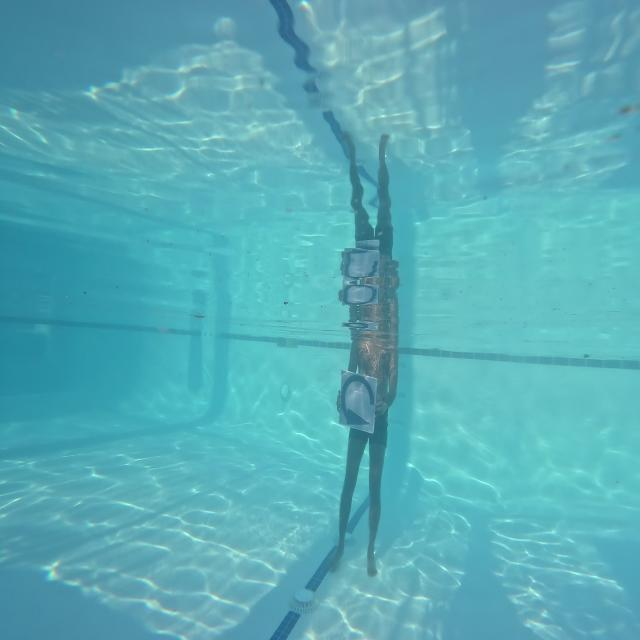blue_side: (332, 362, 377, 434)
